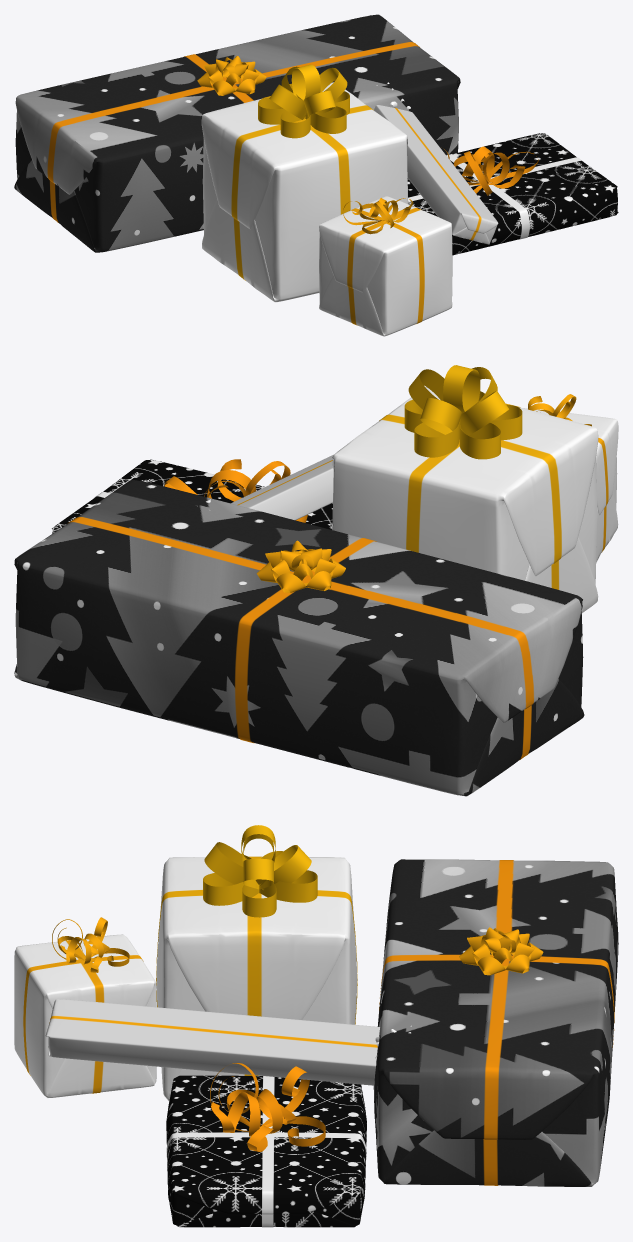
File: christmas_gifts.glb
The picture shows the model from 3 angles, top to bottom: view 1: azimuth 30°, elevation 25°; view 2: azimuth 150°, elevation 25°; view 3: azimuth 270°, elevation 25°; orthographic projection. The views are drawn at different scales.
Parts seen in each view (by area): view 1: present02.Shape, Present01.Shape, Present01_dup_2.Shape, present04.Shape, present03.Shape, Bow03.Shape, Present 02 Ribbon.Shape, Present 01 Ribbon.Shape, Bow02.Shape, bow01.Shape, Present 01 Ribbon_dup_2.Shape, Bow02_dup_2.Shape (+1 smaller); view 2: present02.Shape, Present01.Shape, Bow03.Shape, Present 02 Ribbon.Shape, present03.Shape, present04.Shape, Present 01 Ribbon.Shape, bow01.Shape, Present01_dup_2.Shape, Bow02.Shape, Bow02_dup_2.Shape; view 3: present02.Shape, Present01.Shape, present04.Shape, present03.Shape, Present01_dup_2.Shape, Bow03.Shape, Present 02 Ribbon.Shape, Bow02.Shape, bow01.Shape, Present 01 Ribbon.Shape, Present 04 Ribbon.Shape, Bow02_dup_2.Shape (+2 smaller).
Part boxes in pixels (bbox=[...]): present02.Shape: bbox=[14, 14, 460, 252]; Present01.Shape: bbox=[201, 82, 408, 302]; Present01_dup_2.Shape: bbox=[319, 196, 452, 336]; present04.Shape: bbox=[407, 133, 618, 255]; present03.Shape: bbox=[374, 105, 498, 244]; Bow03.Shape: bbox=[258, 64, 349, 138]; Present 02 Ribbon.Shape: bbox=[47, 42, 419, 222]; Present 01 Ribbon.Shape: bbox=[231, 96, 373, 280]; Bow02.Shape: bbox=[444, 146, 538, 195]; bow01.Shape: bbox=[197, 55, 266, 95]; Present 01 Ribbon_dup_2.Shape: bbox=[347, 208, 424, 325]; Bow02_dup_2.Shape: bbox=[343, 198, 413, 234]; present02.Shape: bbox=[14, 480, 584, 796]; Present01.Shape: bbox=[332, 387, 598, 613]; Bow03.Shape: bbox=[404, 365, 522, 459]; Present 02 Ribbon.Shape: bbox=[67, 517, 533, 759]; present03.Shape: bbox=[231, 454, 333, 520]; present04.Shape: bbox=[52, 459, 332, 533]; Present 01 Ribbon.Shape: bbox=[379, 403, 561, 589]; bow01.Shape: bbox=[256, 540, 345, 592]; Present01_dup_2.Shape: bbox=[522, 408, 618, 562]; Bow02.Shape: bbox=[164, 459, 307, 522]; Bow02_dup_2.Shape: bbox=[528, 394, 591, 426]; present02.Shape: bbox=[373, 859, 618, 1186]; Present01.Shape: bbox=[156, 857, 357, 1101]; present04.Shape: bbox=[166, 1075, 366, 1227]; present03.Shape: bbox=[45, 999, 379, 1085]; Present01_dup_2.Shape: bbox=[14, 934, 156, 1097]; Bow03.Shape: bbox=[203, 825, 317, 917]; Present 02 Ribbon.Shape: bbox=[379, 860, 614, 1185]; Bow02.Shape: bbox=[210, 1063, 325, 1151]; bow01.Shape: bbox=[459, 927, 543, 975]; Present 01 Ribbon.Shape: bbox=[156, 856, 357, 1075]; Present 04 Ribbon.Shape: bbox=[166, 1076, 366, 1227]; Bow02_dup_2.Shape: bbox=[52, 917, 129, 972].
Bounding box in the file's own units: 1.32 × 0.5668 × 1.3.
15 materials, 7 textured.
